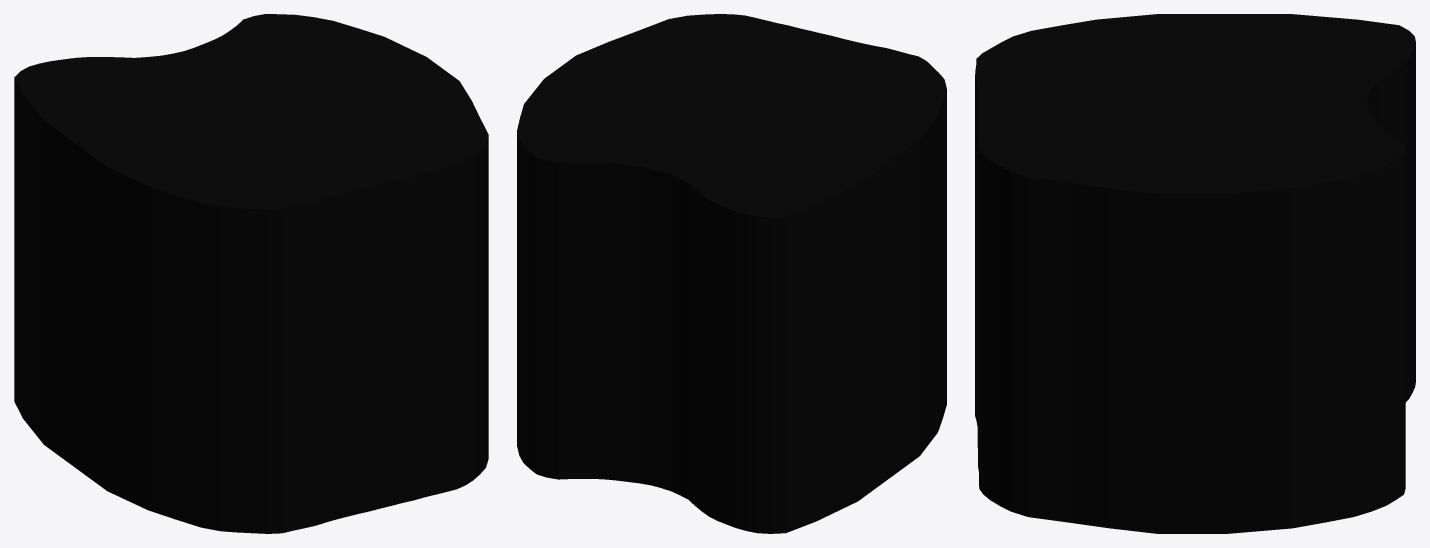
The model's file is coal.fbx.
The picture shows the model from 3 angles, left to right: view 1: azimuth 30°, elevation 25°; view 2: azimuth 150°, elevation 25°; view 3: azimuth 270°, elevation 25°; orthographic projection. The views are drawn at different scales.
Parts seen in each view (by area): view 1: Cube; view 2: Cube; view 3: Cube.
Part boxes in pixels (x1=…): Cube: x1=14, y1=14, x2=488, y2=533; Cube: x1=517, y1=14, x2=946, y2=533; Cube: x1=975, y1=14, x2=1415, y2=533.
Size of the model in its own units: 200 by 176 by 207.
Materials: 1 (1 with a texture image).
